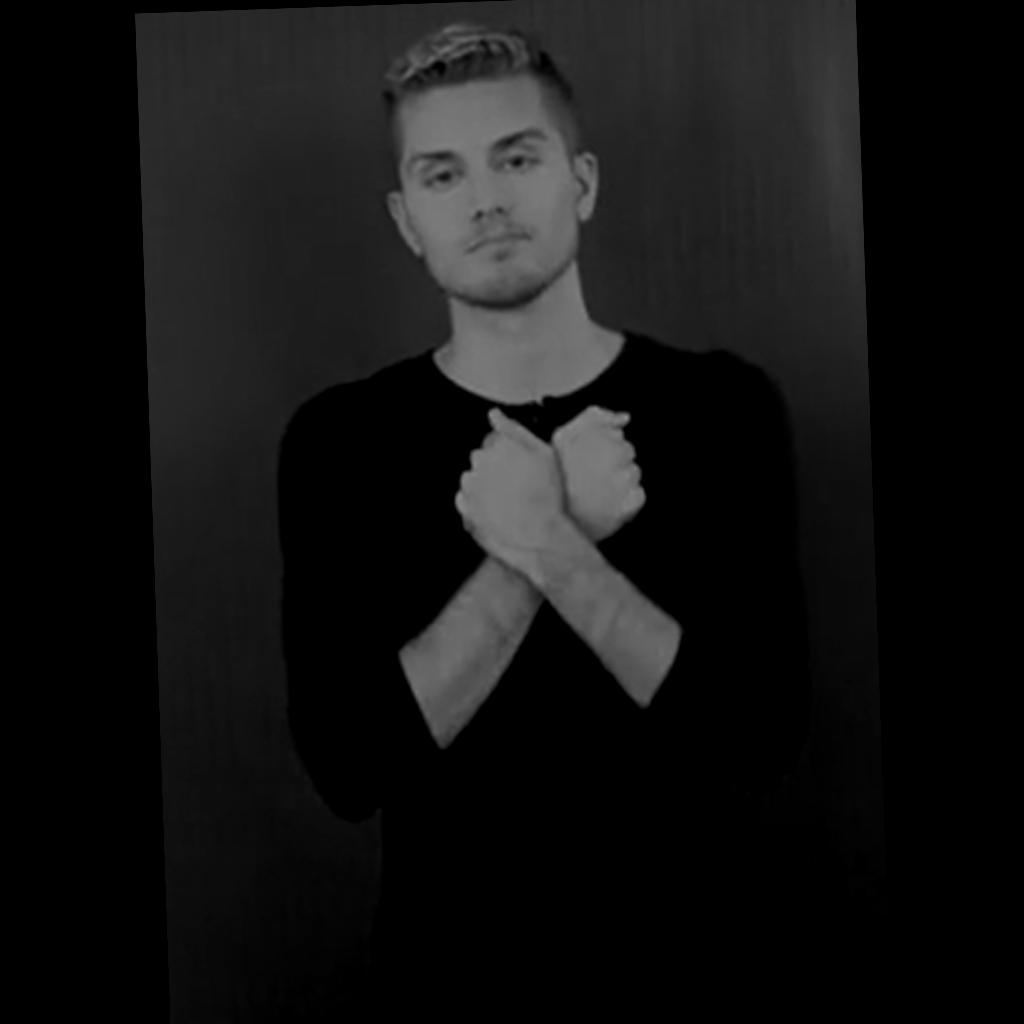love: (452, 401, 650, 584)
